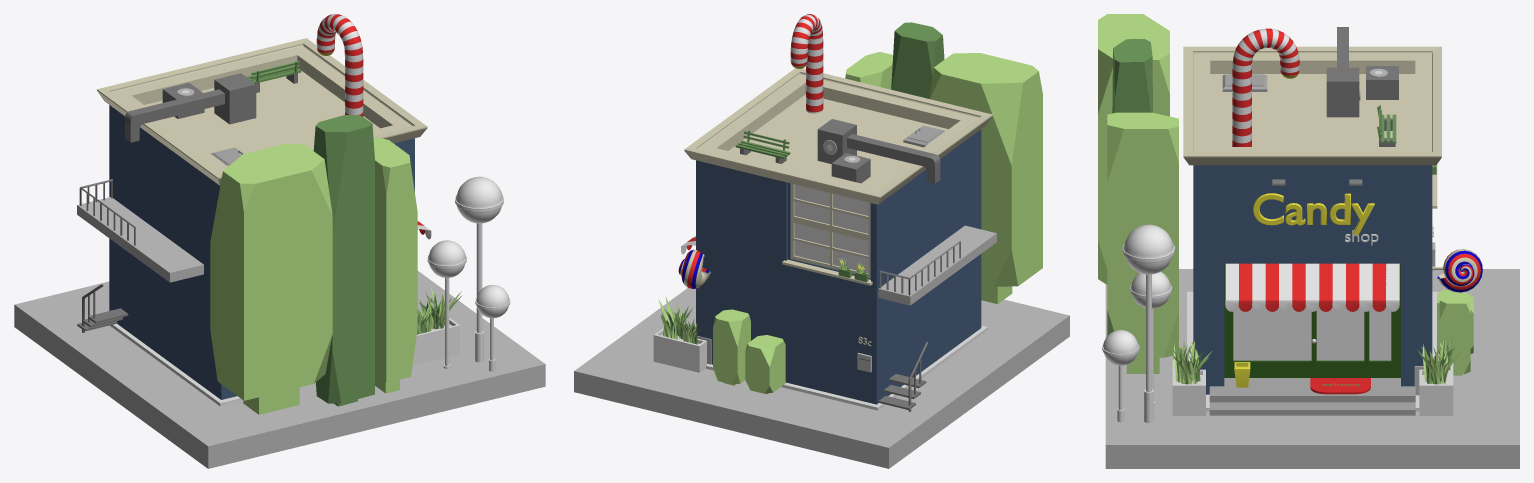
Rendered from CandyStore.fbx.
3 renders of one model, left to right at view 1: azimuth 30°, elevation 25°; view 2: azimuth 150°, elevation 25°; view 3: azimuth 270°, elevation 25°, orthographic. The views are drawn at different scales.
Parts seen in each view (by area): view 1: House, Cube.001, Tree3, Tree2, Tree1, Balcony, Vent, Lolipop, SuperToroid, Cylinder.002, Cube.007, HouseBase (+5 smaller); view 2: House, Cube.001, Tree3, Balcony, Tree2, Vent, Bush1, SuperToroid, Bush2, Cube.006, Tree1, HouseBase (+8 smaller); view 3: House, Cube.001, Tree1, Tarpaulin, Stairs, Tree3, SuperToroid, Lolipop, Tree2, Bush1, Vent, CandyText (+12 smaller).
Boxes of the visible parts, left/top/right/bottom form: House: left=97, top=38, right=427, bottom=399; Cube.001: left=14, top=271, right=545, bottom=468; Tree3: left=210, top=143, right=332, bottom=414; Tree2: left=313, top=115, right=374, bottom=406; Tree1: left=373, top=137, right=417, bottom=393; Balcony: left=77, top=197, right=203, bottom=282; Vent: left=125, top=73, right=256, bottom=142; Lolipop: left=455, top=176, right=503, bottom=362; SuperToroid: left=316, top=14, right=363, bottom=116; Cylinder.002: left=427, top=240, right=466, bottom=368; Cube.007: left=412, top=318, right=459, bottom=365; HouseBase: left=110, top=323, right=315, bottom=406; House: left=684, top=68, right=992, bottom=404; Cube.001: left=574, top=288, right=1069, bottom=468; Tree3: left=929, top=53, right=1042, bottom=304; Balcony: left=878, top=225, right=996, bottom=305; Tree2: left=891, top=22, right=944, bottom=98; Vent: left=817, top=119, right=940, bottom=183; Bush1: left=713, top=309, right=750, bottom=385; SuperToroid: left=790, top=14, right=823, bottom=113; Bush2: left=745, top=335, right=785, bottom=394; Cube.006: left=653, top=324, right=706, bottom=372; Tree1: left=845, top=52, right=893, bottom=89; HouseBase: left=706, top=325, right=987, bottom=410; House: left=1183, top=46, right=1441, bottom=394; Cube.001: left=1105, top=269, right=1519, bottom=468; Tree1: left=1107, top=112, right=1178, bottom=373; Tarpaulin: left=1225, top=263, right=1399, bottom=311; Stairs: left=1209, top=378, right=1415, bottom=415; Tree3: left=1098, top=14, right=1169, bottom=284; SuperToroid: left=1232, top=28, right=1299, bottom=146; Lolipop: left=1122, top=224, right=1175, bottom=422; Tree2: left=1112, top=39, right=1152, bottom=113; Bush1: left=1439, top=290, right=1470, bottom=375; Vent: left=1326, top=27, right=1359, bottom=117; CandyText: left=1253, top=193, right=1374, bottom=234.
Bounding box in the file's own units: 348 × 347 × 353.
